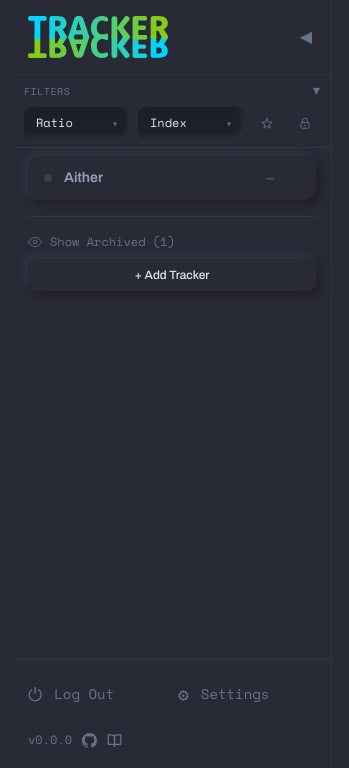
Test: Sidebar › lists an archived tracker only once Show Archived is on
The width and height of the screenshot is (349, 768).
Expected: the link "Aither —" is shown, [28, 156, 316, 200]
Expected: the link "Cathode" is not shown
Click the button "Show Archived (1)" at (172, 242), box [28, 233, 316, 251]
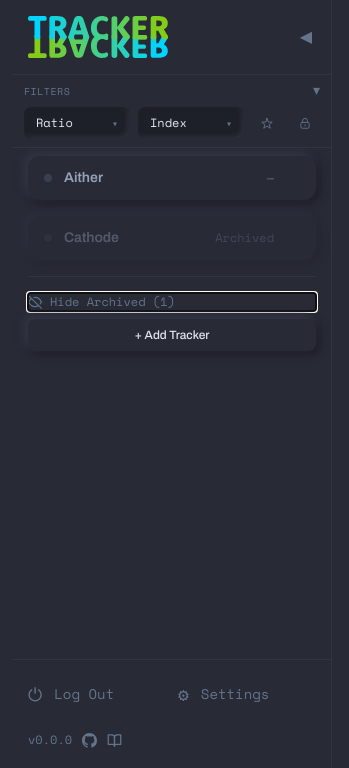
Now the link "Cathode Archived" is shown, box [28, 216, 316, 260]
Now the button "Hide Archived (1)" is shown, box [28, 293, 316, 311]
